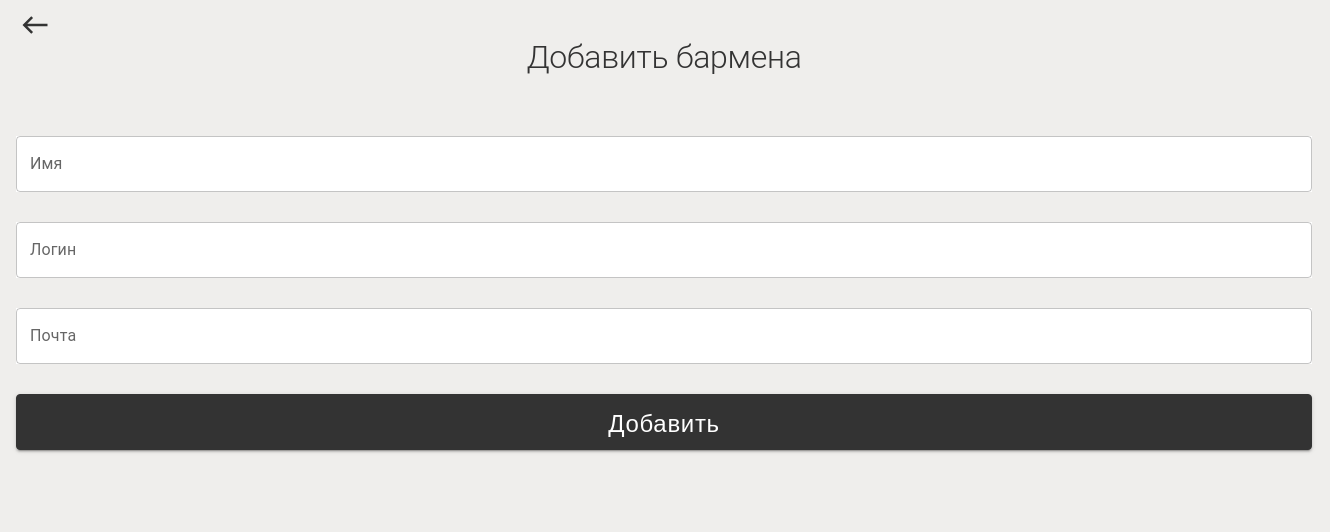
AdminRegisterBarmanForm › когда нет контекста бара — показывает ошибку и не шлёт запрос
The width and height of the screenshot is (1330, 532).
Type "Иван" into the field labelled "Имя" at (664, 164), box [16,136,1312,192]
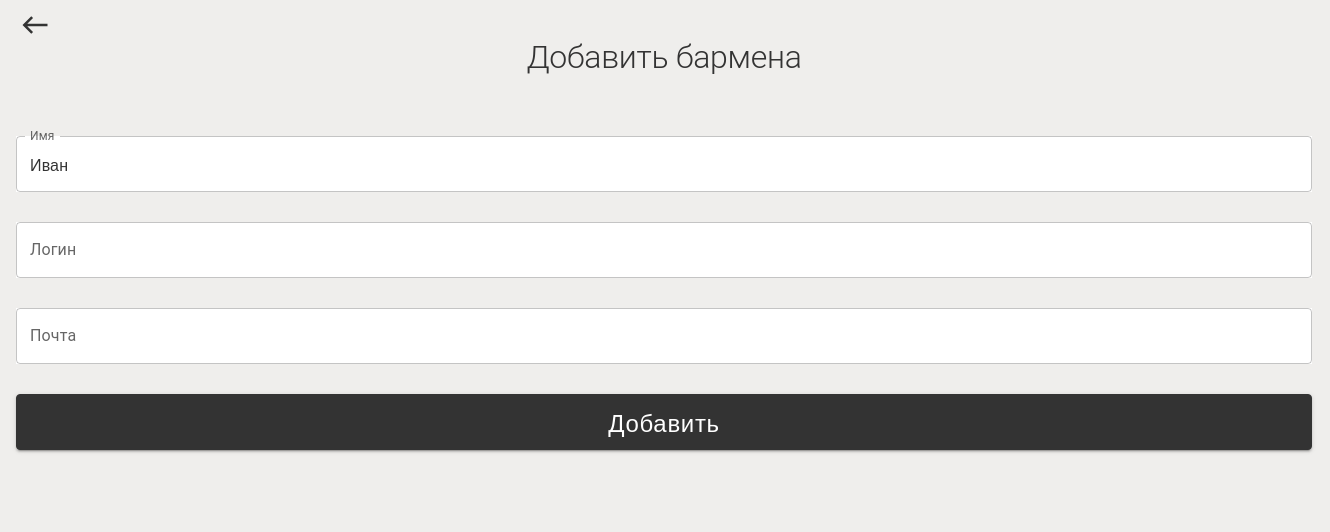
Type "ivan" into the field labelled "Логин" at (664, 250), box [16,222,1312,278]
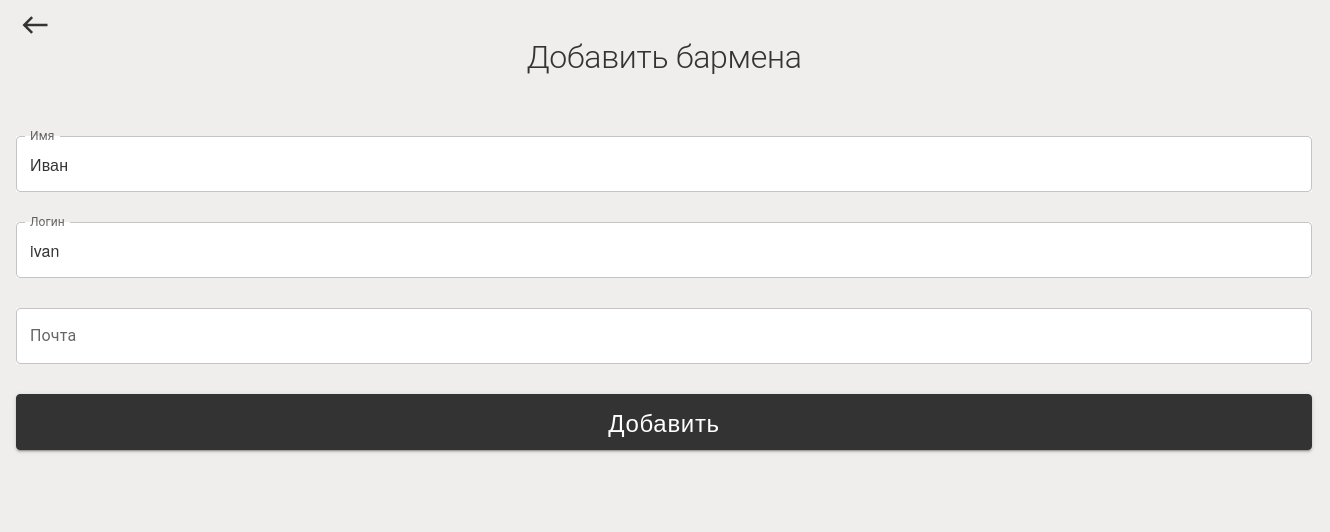
Type "ivan@example.com" into the field labelled "Почта" at (664, 336), box [16,308,1312,364]
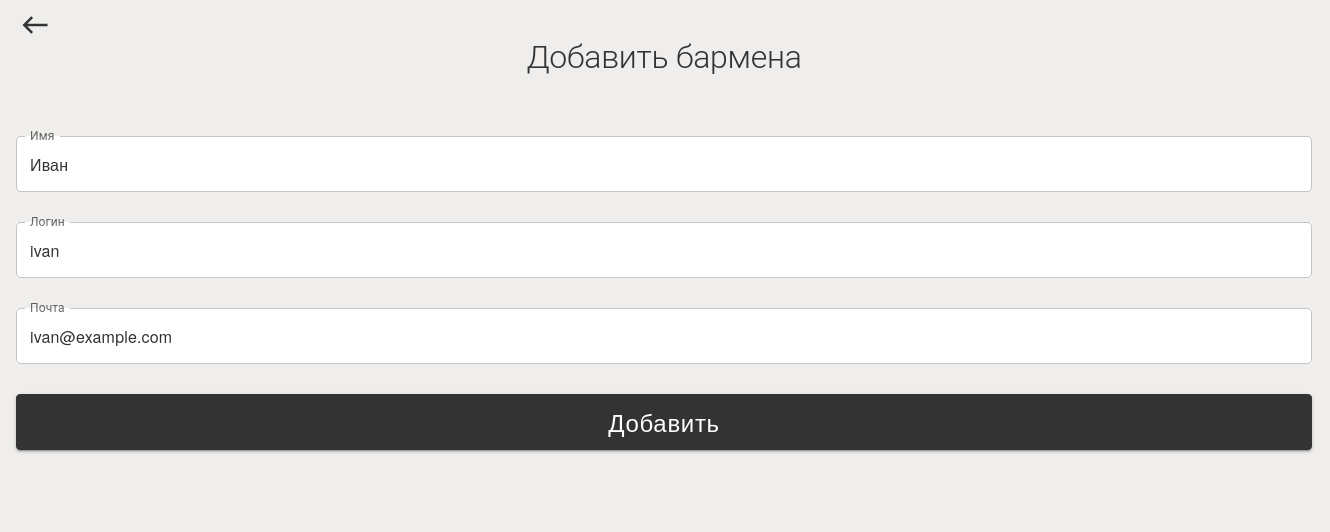
Click the button "Добавить" at (664, 422), box [16,394,1312,450]
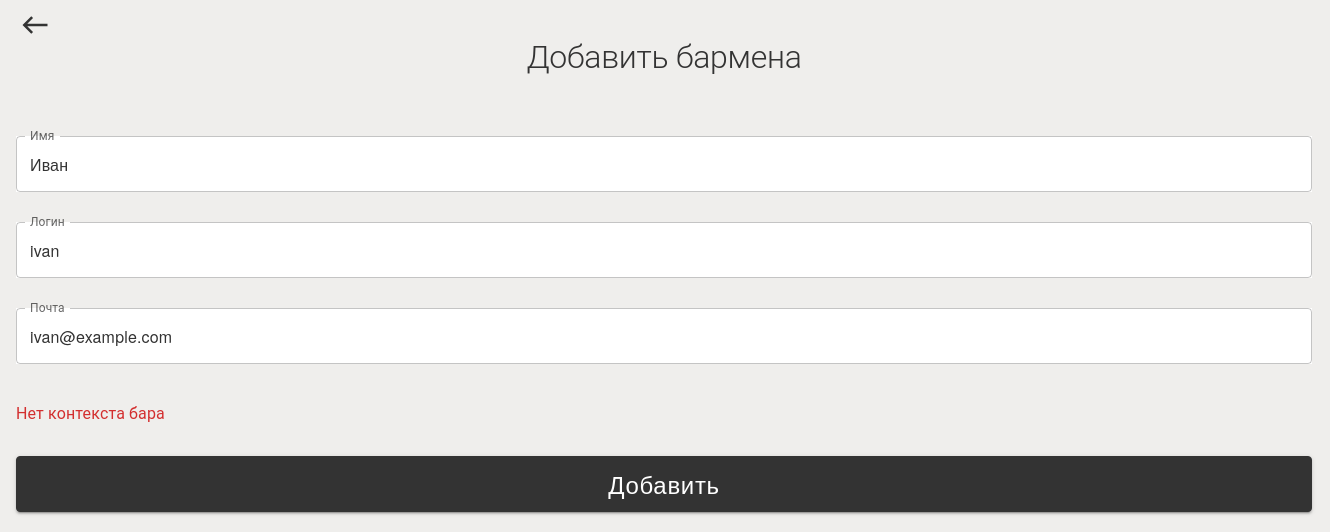
Result: the text "Нет контекста бара" is shown at [16,404,165,423]
